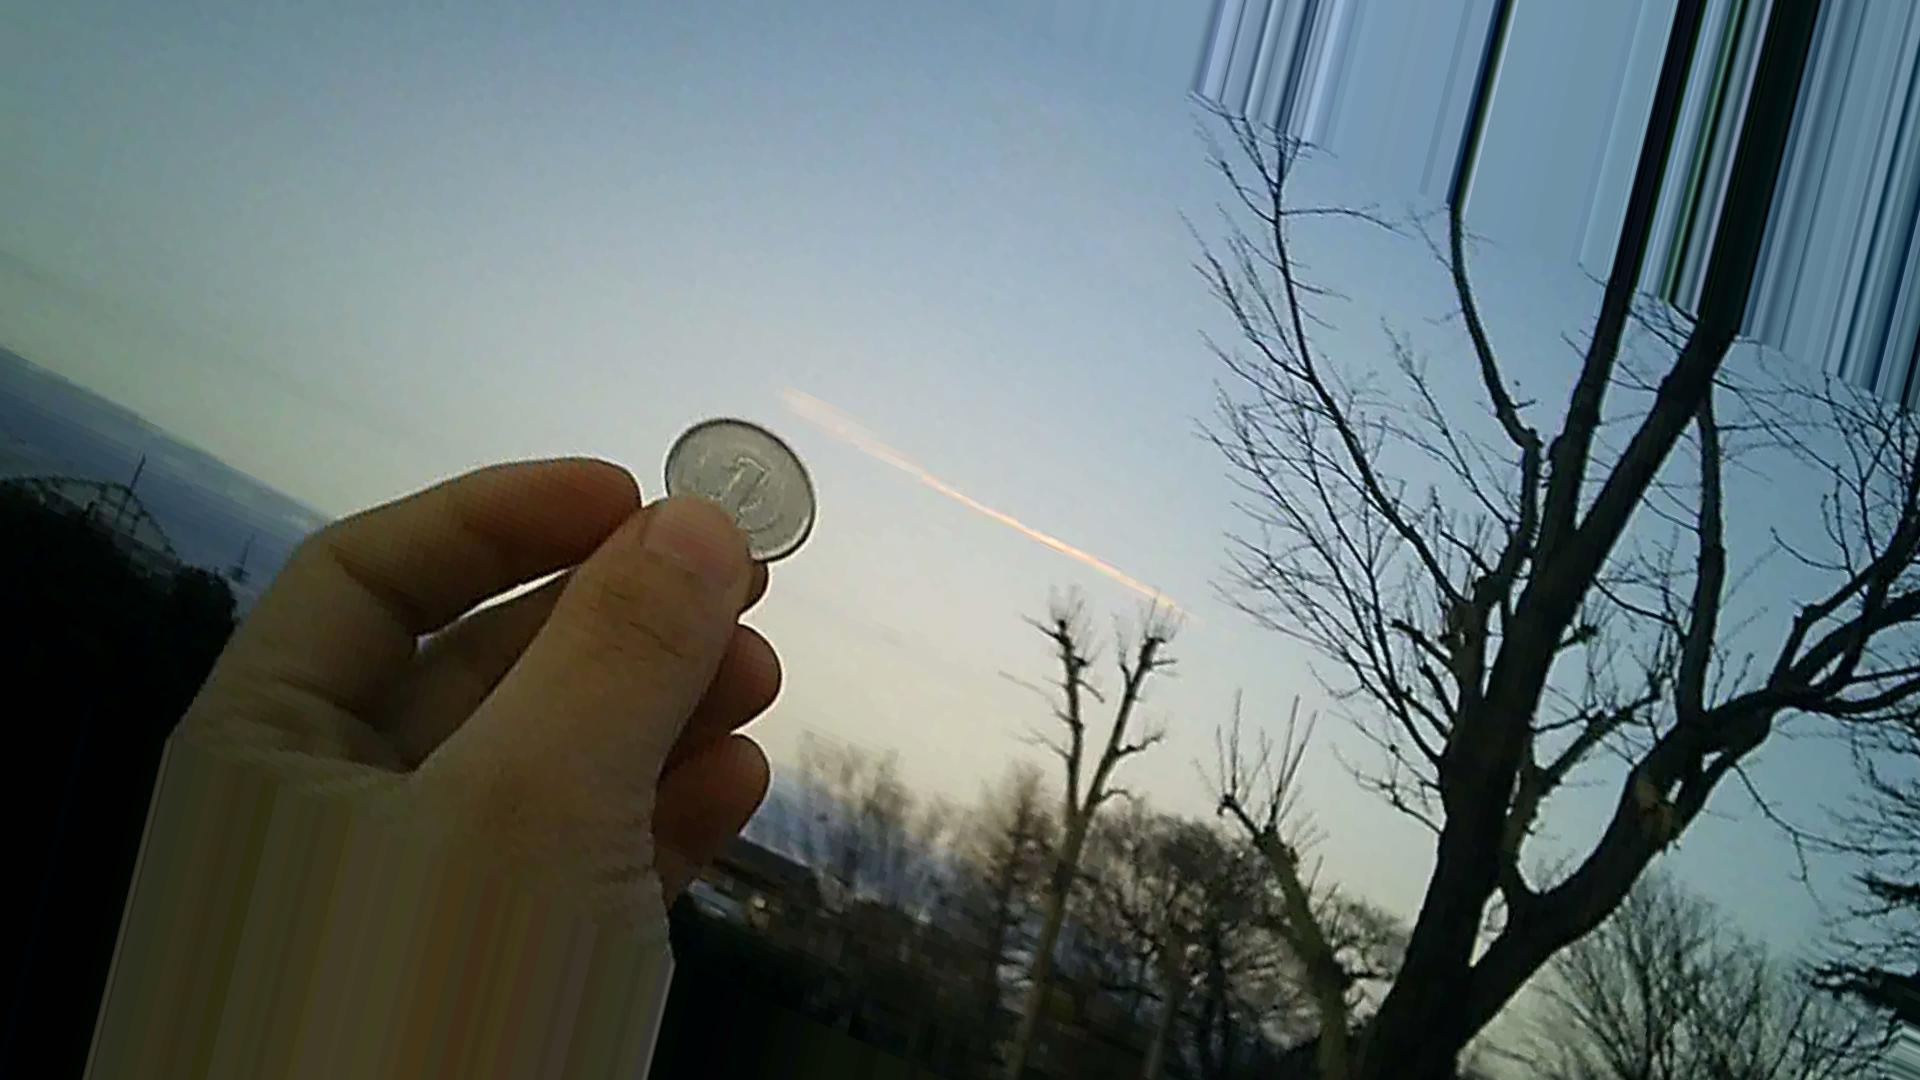1 Yen: (654, 402, 823, 568)
